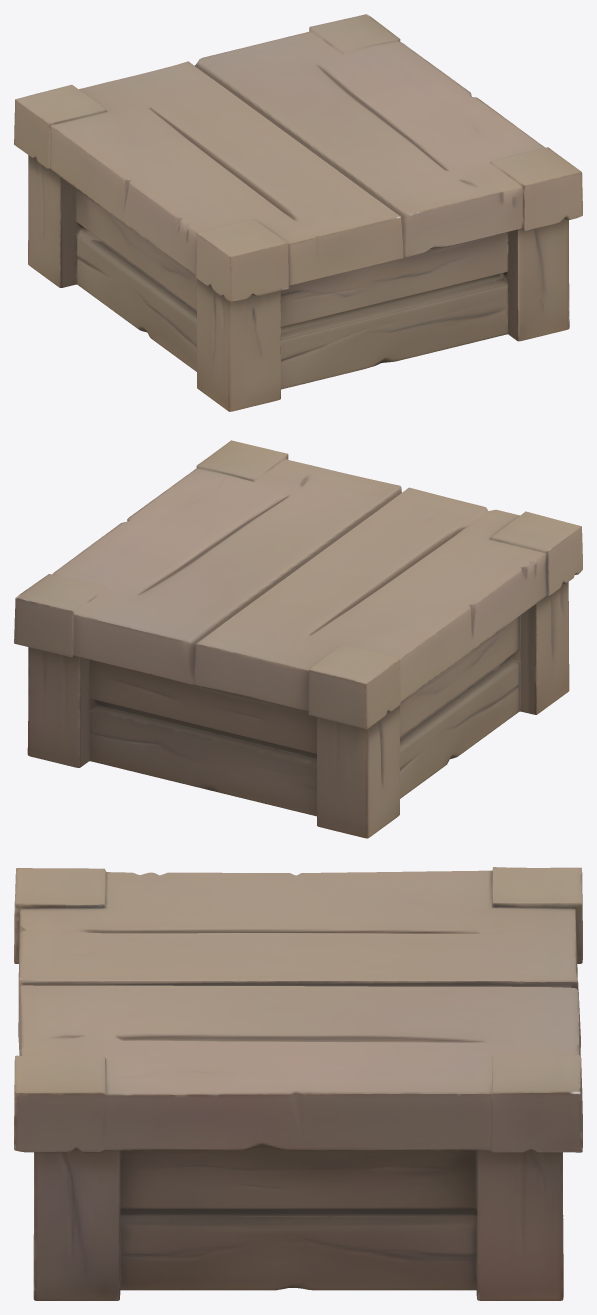
The model's file is base_basic_shaded.fbx.
3 views of the same model, one above another, from view 1: azimuth 30°, elevation 25°; view 2: azimuth 150°, elevation 25°; view 3: azimuth 270°, elevation 25° (orthographic). The views are drawn at different scales.
Parts seen in each view (by area): view 1: model; view 2: model; view 3: model.
Part boxes in pixels (bbox=[...]): model: bbox=[14, 14, 582, 411]; model: bbox=[14, 440, 582, 838]; model: bbox=[14, 867, 582, 1300].
Size of the model in its own units: 179 by 79.29 by 190.
